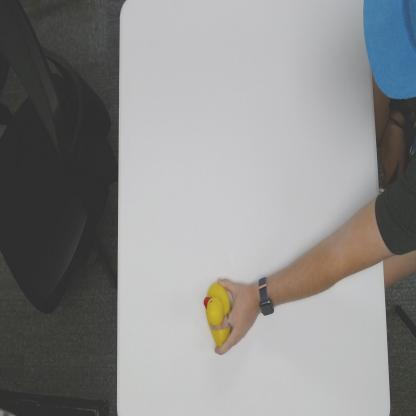Arm: (274, 192, 383, 310)
Duck: (203, 280, 232, 348)
Hand: (211, 276, 255, 358)
